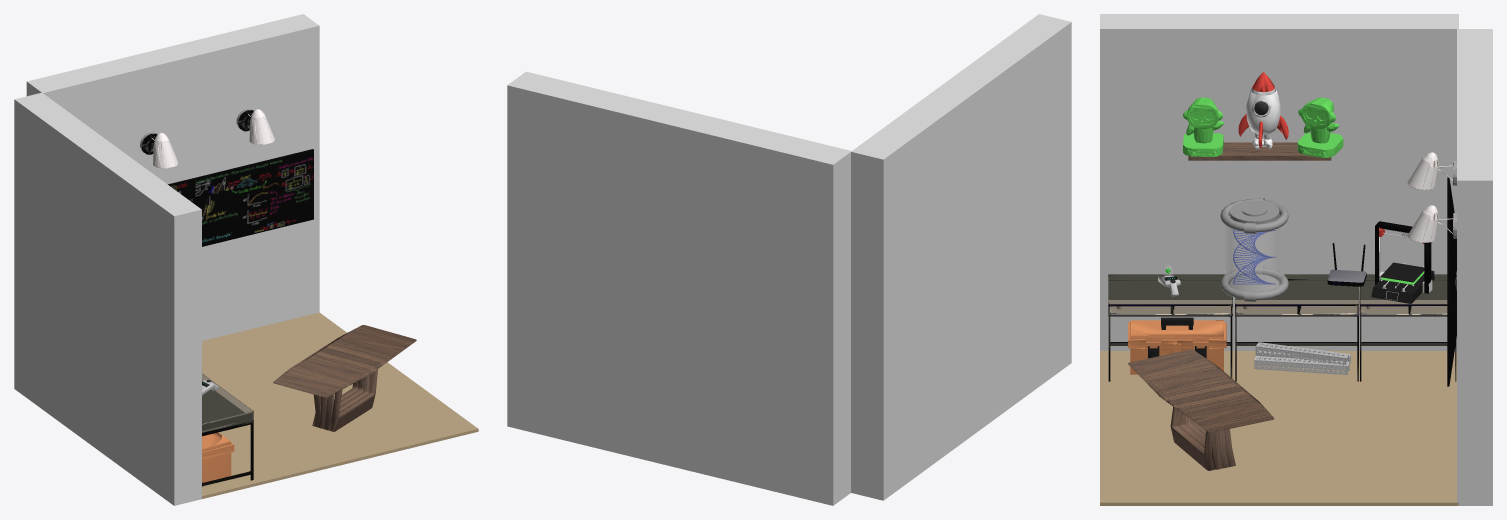
Rendered from sez6_room.glb.
The picture shows the model from 3 angles, left to right: view 1: azimuth 30°, elevation 25°; view 2: azimuth 150°, elevation 25°; view 3: azimuth 270°, elevation 25°; orthographic projection. The views are drawn at different scales.
Parts seen in each view (by area): view 1: Cube.008, Cube.013, Cube.040, Screen.001, Box006, desk.010, Box001, Tool_box1_Tool_box_polymer_0.003, lampa_perete.011, lampa_perete.010, Body.001; view 2: Cube.013, Cube.008; view 3: Cube.008, Cube.040, Cube.013, Box006, desk.010, desk.011, Object_2, Tool_box1_Tool_box_polymer_0.003, desk.002, Box001, Cylinder.006, Object_6 (+16 smaller).
Part boxes in pixels (x1,y1,x2,y2): Cube.008: (14, 92, 201, 505); Cube.013: (26, 14, 319, 340); Cube.040: (201, 312, 478, 498); Screen.001: (195, 150, 313, 245); Box006: (273, 325, 416, 397); desk.010: (202, 373, 253, 486); Box001: (312, 369, 377, 431); Tool_box1_Tool_box_polymer_0.003: (202, 432, 234, 482); lampa_perete.011: (236, 109, 274, 144); lampa_perete.010: (140, 132, 178, 168); Body.001: (194, 149, 313, 246); Cube.013: (507, 71, 851, 505); Cube.008: (851, 14, 1071, 500); Cube.008: (1100, 14, 1458, 350); Cube.040: (1100, 351, 1458, 505); Cube.013: (1457, 29, 1492, 505); Box006: (1128, 349, 1274, 432); desk.010: (1108, 274, 1232, 381); desk.011: (1235, 274, 1359, 381); Object_2: (1224, 216, 1284, 292); Tool_box1_Tool_box_polymer_0.003: (1128, 320, 1226, 374); desk.002: (1360, 274, 1456, 381); Box001: (1170, 407, 1235, 470); Cylinder.006: (1238, 72, 1288, 149); Object_6: (1220, 198, 1288, 301).
Size of the model in its own units: 2.2 by 2.01 by 2.19.
Materials: 32 (11 with a texture image).
